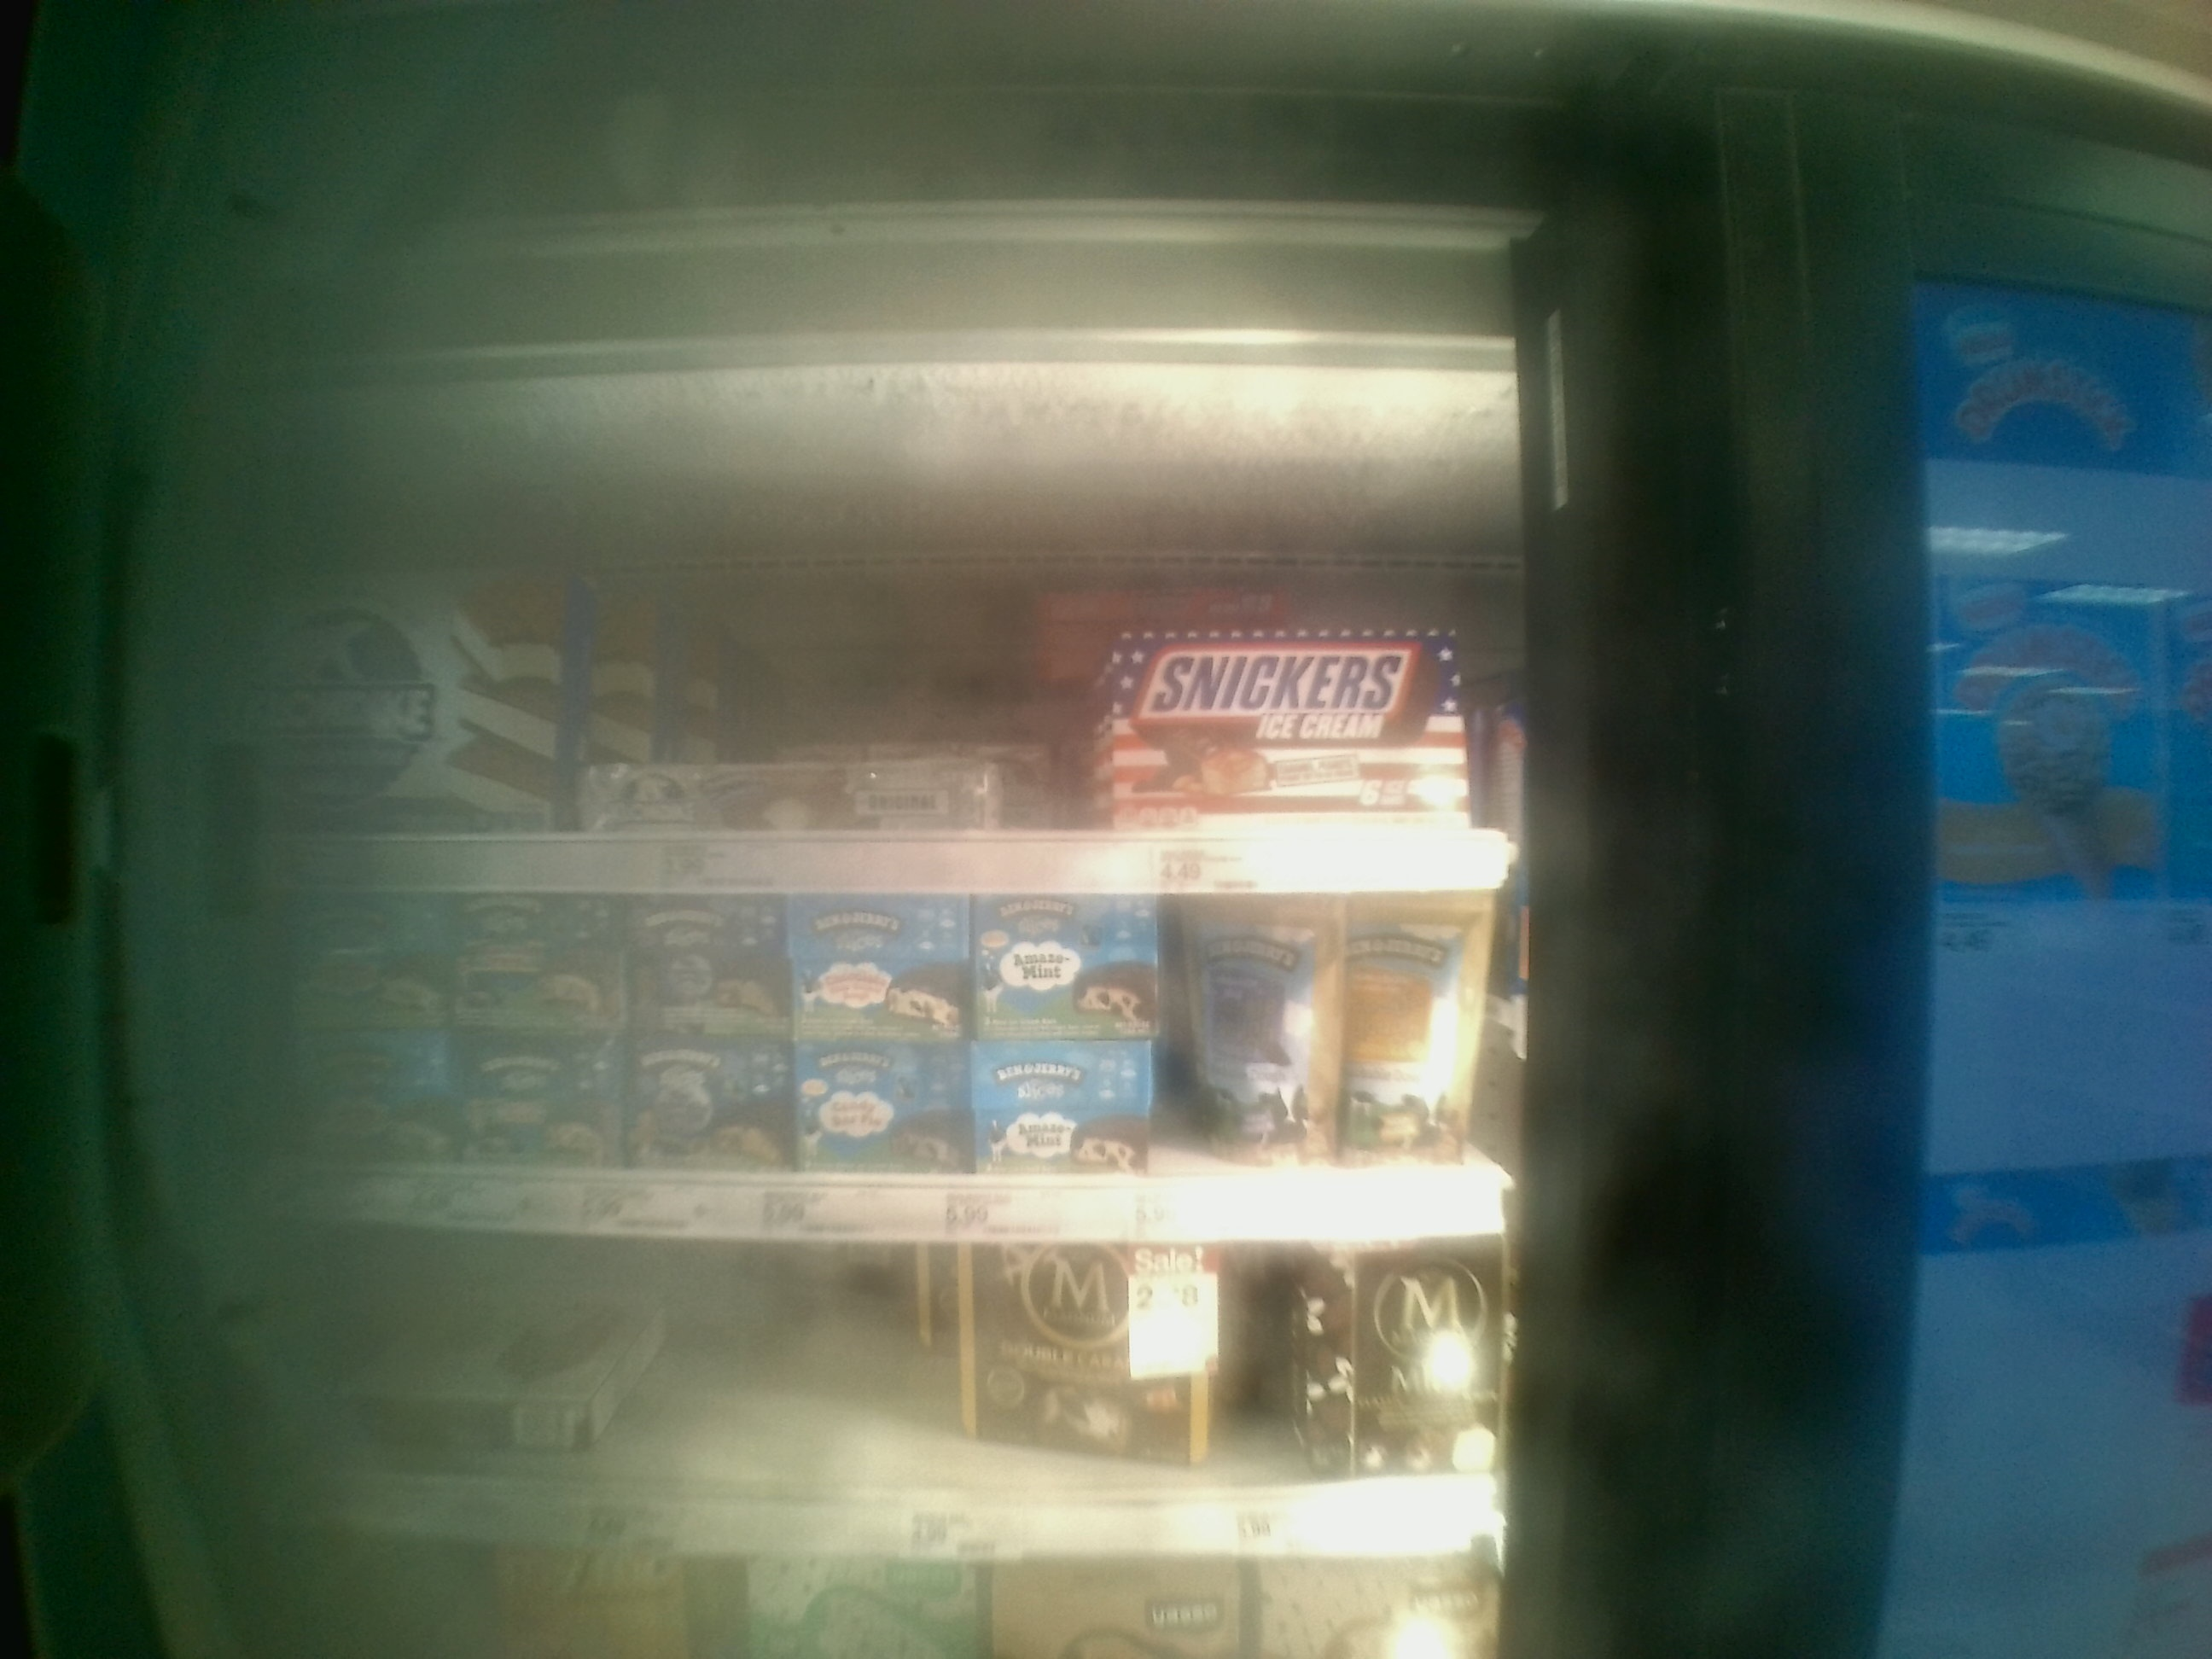ice-cream-shelf: (221, 455, 1533, 889), (211, 887, 1515, 1248)
